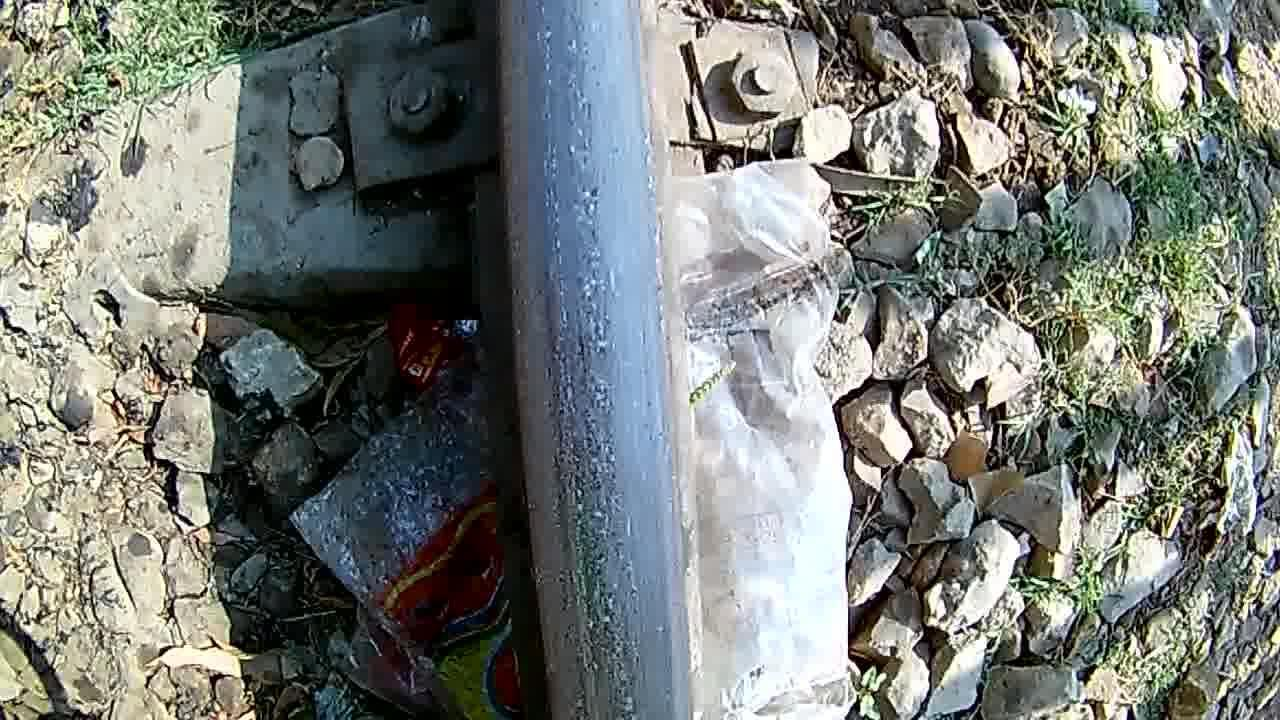crack: (528, 5, 674, 718)
